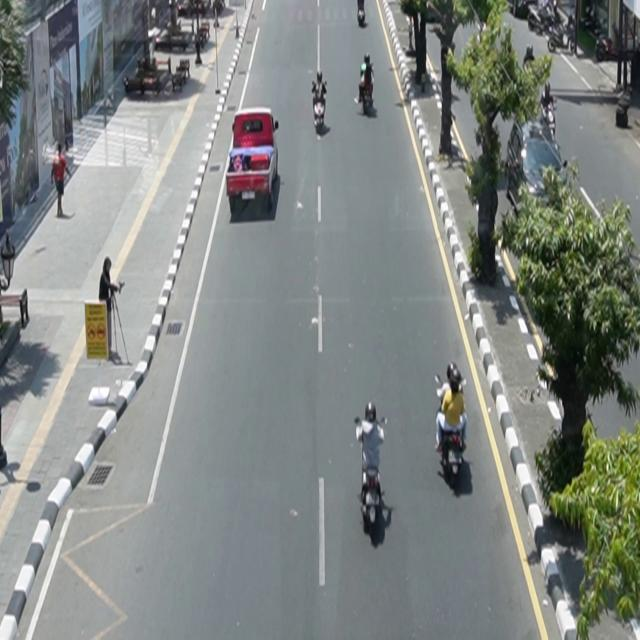car: (506, 118, 570, 221), (226, 107, 280, 214)
